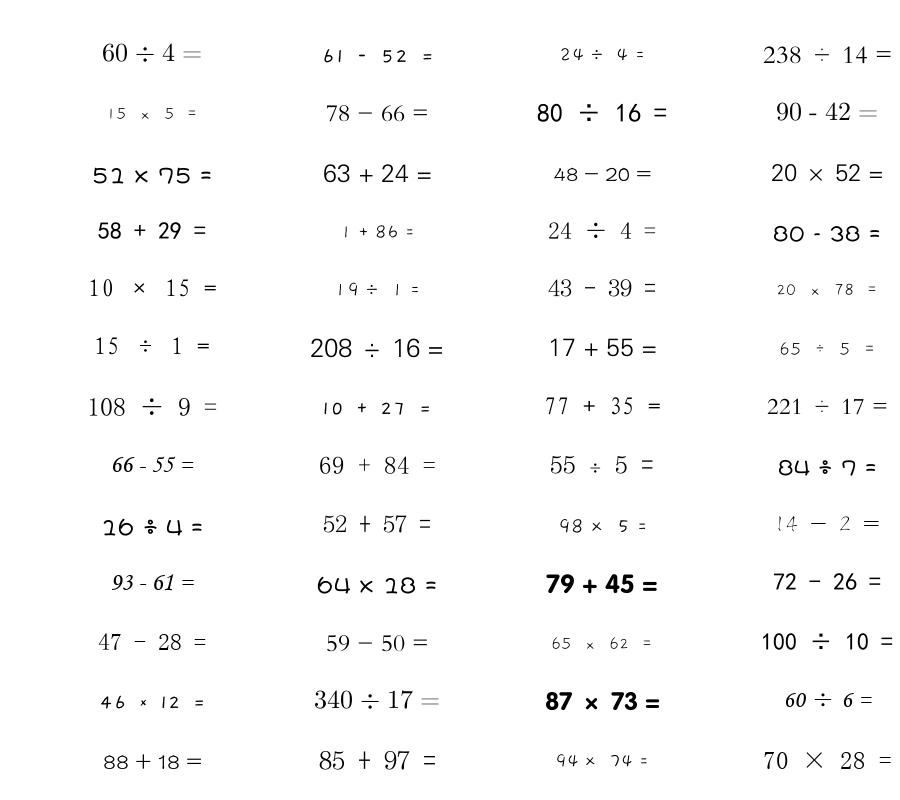MQ: (310, 338, 444, 358), (537, 103, 667, 123), (87, 397, 217, 416), (314, 690, 440, 709), (761, 633, 893, 651), (319, 750, 436, 770), (763, 46, 892, 64), (88, 279, 217, 297), (545, 691, 660, 711), (546, 574, 658, 594), (763, 752, 892, 769), (317, 576, 437, 594), (544, 397, 661, 415), (319, 456, 436, 474), (94, 337, 210, 355), (323, 164, 432, 183), (548, 338, 657, 357), (767, 398, 888, 415), (92, 167, 212, 184), (771, 164, 884, 182), (550, 455, 654, 474), (548, 279, 656, 297), (323, 515, 431, 533), (776, 102, 878, 121), (102, 43, 202, 62), (98, 222, 206, 239), (548, 222, 656, 239), (773, 225, 881, 242), (101, 518, 203, 536), (773, 573, 881, 590), (98, 633, 206, 650), (326, 105, 429, 122), (326, 635, 429, 652), (774, 516, 880, 532), (778, 459, 877, 476), (103, 753, 202, 770), (321, 49, 434, 63), (99, 695, 206, 709), (554, 167, 651, 182), (322, 402, 432, 415), (110, 574, 194, 591), (558, 518, 647, 534), (779, 342, 876, 356), (110, 456, 194, 472), (776, 283, 878, 296), (551, 637, 653, 650), (555, 754, 649, 768), (334, 282, 420, 297), (783, 693, 872, 707), (559, 48, 645, 62), (106, 107, 198, 120), (340, 225, 415, 239)
